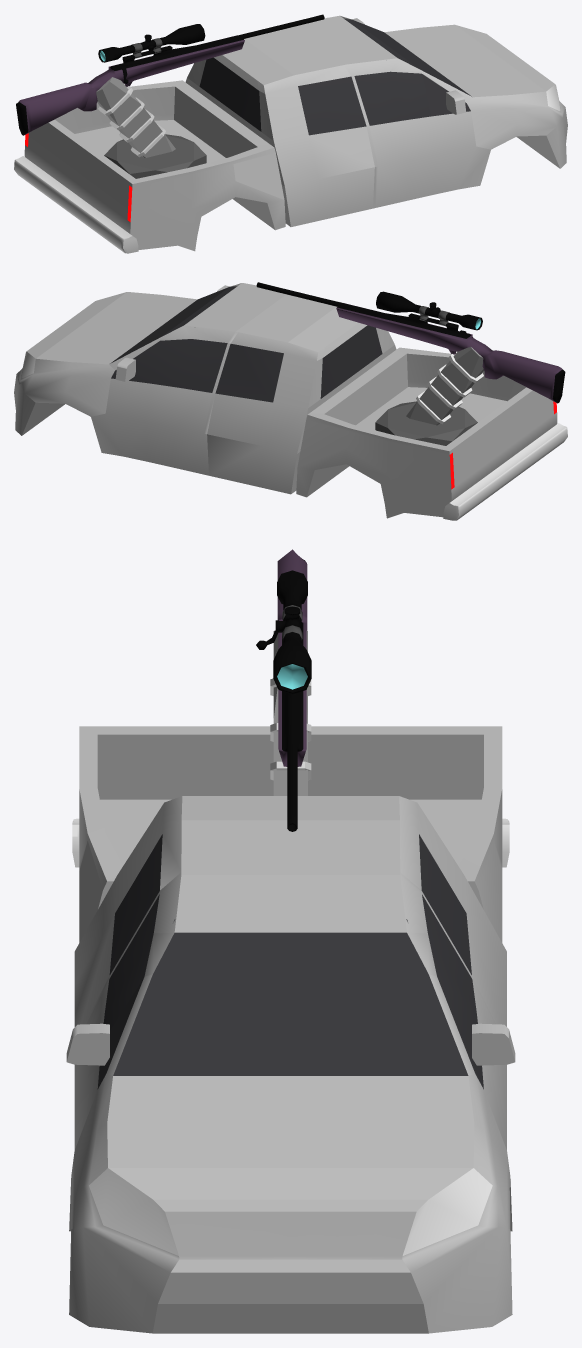
File: SniperUte.fbx
The picture shows the model from 3 angles, top to bottom: view 1: azimuth 30°, elevation 25°; view 2: azimuth 150°, elevation 25°; view 3: azimuth 270°, elevation 25°; orthographic projection. The views are drawn at different scales.
Parts seen in each view (by area): view 1: autos_LP_pack.001, Cylinder.001; view 2: autos_LP_pack.001, Cylinder.001; view 3: autos_LP_pack.001, Cylinder.001.
Part boxes in pixels (x1=…): autos_LP_pack.001: x1=14, y1=15, x2=567, y2=253; Cylinder.001: x1=16, y1=14, x2=324, y2=178; autos_LP_pack.001: x1=14, y1=283, x2=567, y2=520; Cylinder.001: x1=256, y1=282, x2=565, y2=445; autos_LP_pack.001: x1=66, y1=726, x2=515, y2=1333; Cylinder.001: x1=256, y1=549, x2=311, y2=831.
Bounding box in the file's own units: 698 × 231 × 262.
